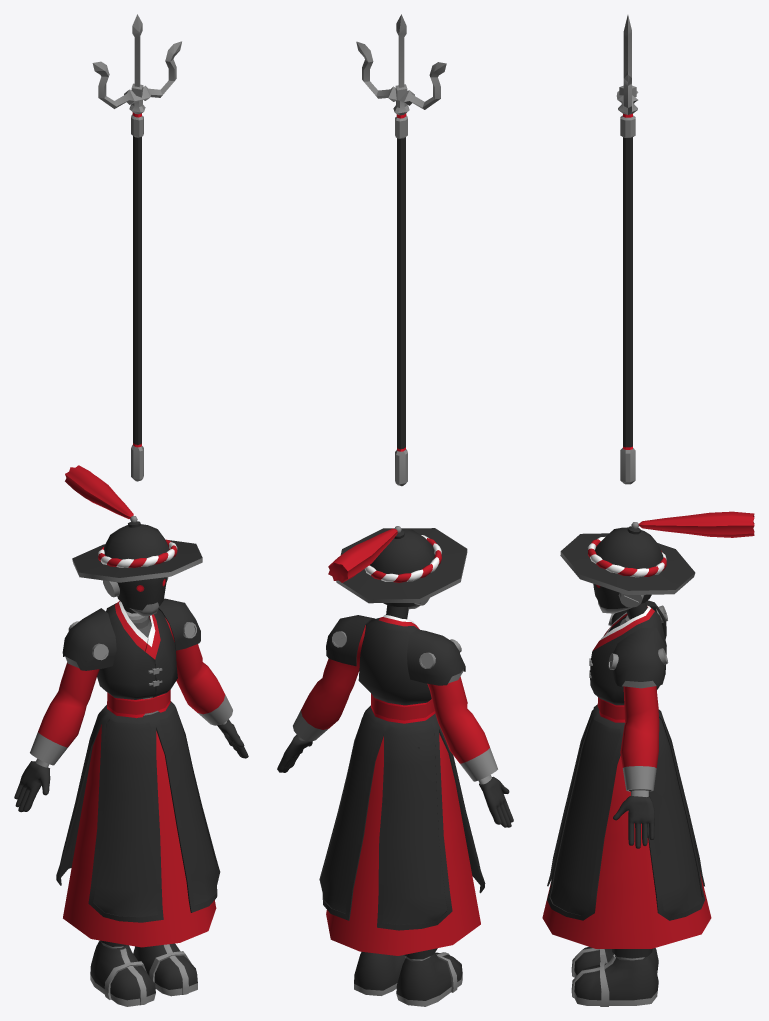
The model's file is monster_close.fbx.
3 renders of one model, left to right at view 1: azimuth 30°, elevation 25°; view 2: azimuth 150°, elevation 25°; view 3: azimuth 270°, elevation 25°, orthographic.
Parts seen in each view (by area): view 1: skirt02, skirt01, body, arm, Box001, leg, hat, shoulder, head, hand, hat_acc; view 2: skirt02, skirt01, arm, hat, body, Box001, leg, shoulder, hand, hat_acc; view 3: skirt02, skirt01, hat, Box001, leg, arm, body, shoulder, hat_acc, hand, head.
Boxes of the visible parts, <box> form: skirt02: <box>56,701,220,922</box>; skirt01: <box>63,724,216,947</box>; body: <box>97,601,177,718</box>; arm: <box>30,616,232,767</box>; Box001: <box>92,14,181,481</box>; leg: <box>90,940,197,1006</box>; hat: <box>72,516,202,582</box>; shoulder: <box>62,598,200,670</box>; head: <box>103,577,168,616</box>; hand: <box>14,719,248,812</box>; hat_acc: <box>65,465,133,518</box>; skirt02: <box>319,705,485,930</box>; skirt01: <box>326,733,480,955</box>; arm: <box>293,625,497,784</box>; hat: <box>336,526,467,603</box>; body: <box>358,605,434,723</box>; Box001: <box>356,14,446,486</box>; leg: <box>354,733,462,1006</box>; shoulder: <box>326,615,465,685</box>; hand: <box>277,734,513,827</box>; hat_acc: <box>328,528,397,582</box>; skirt02: <box>547,704,704,920</box>; skirt01: <box>542,756,711,948</box>; hat: <box>560,522,695,594</box>; Box001: <box>616,15,638,484</box>; leg: <box>571,947,658,1006</box>; arm: <box>620,686,659,796</box>; body: <box>589,602,666,722</box>; shoulder: <box>608,600,668,688</box>; hat_acc: <box>638,511,754,537</box>; hand: <box>613,796,654,848</box>; head: <box>593,584,651,613</box>.
Bounding box in the file's own units: 91.47 × 371 × 73.29.
